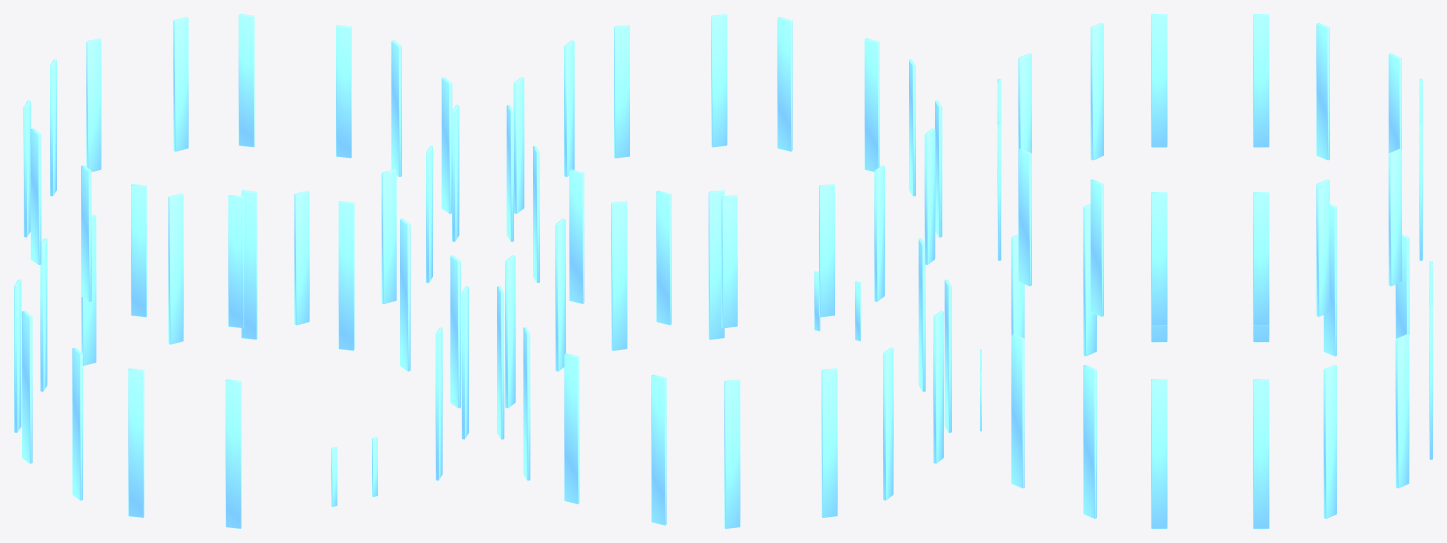
The model's file is MM_Station__Glass.fbx.
The picture shows the model from 3 angles, left to right: view 1: azimuth 30°, elevation 25°; view 2: azimuth 150°, elevation 25°; view 3: azimuth 270°, elevation 25°; orthographic projection.
Visible parts, largest first — view 1: MM_Station__Glass; view 2: MM_Station__Glass; view 3: MM_Station__Glass.
Part boxes in pixels (left/top/right/bottom): MM_Station__Glass: left=14, top=14, right=468, bottom=528; MM_Station__Glass: left=497, top=14, right=951, bottom=528; MM_Station__Glass: left=980, top=14, right=1432, bottom=528.
Bounding box in the file's own units: 2434 × 2000 × 2475.
